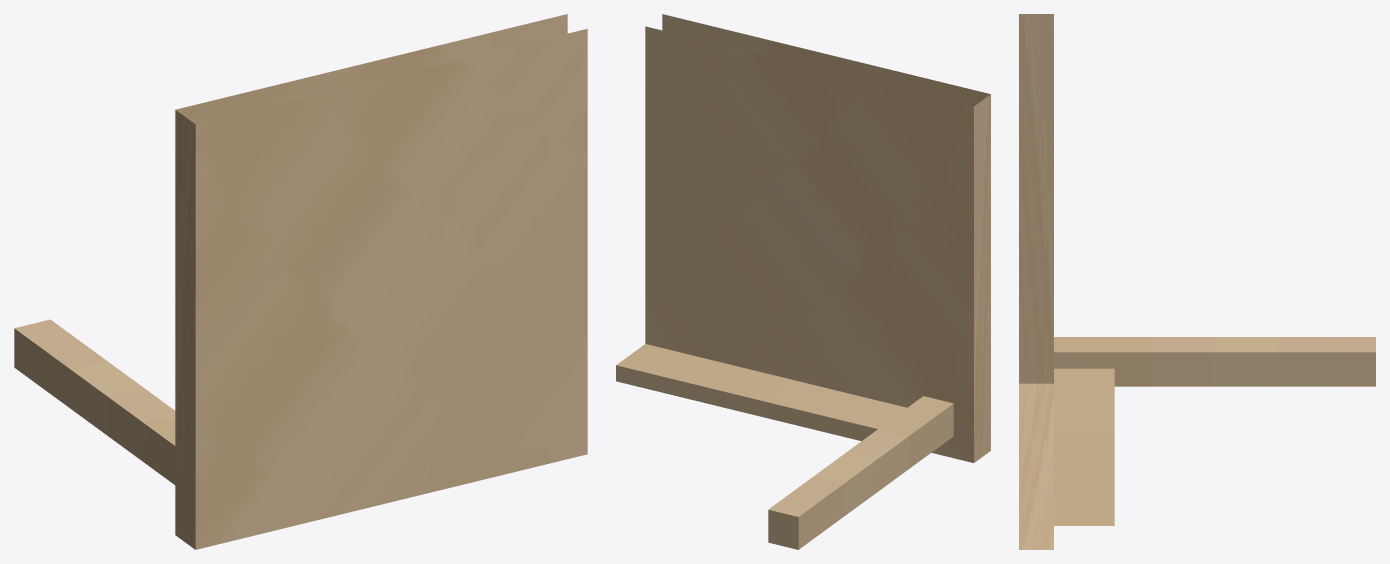
The model's file is pz_table_tables_high_02_large_light_0_0.obj.
3 renders of one model, left to right at view 1: azimuth 30°, elevation 25°; view 2: azimuth 150°, elevation 25°; view 3: azimuth 270°, elevation 25°, orthographic. The views are drawn at different scales.
Bounding box in the file's own units: 0.8438 × 0.875 × 0.7655.
1 material, 1 textured.
